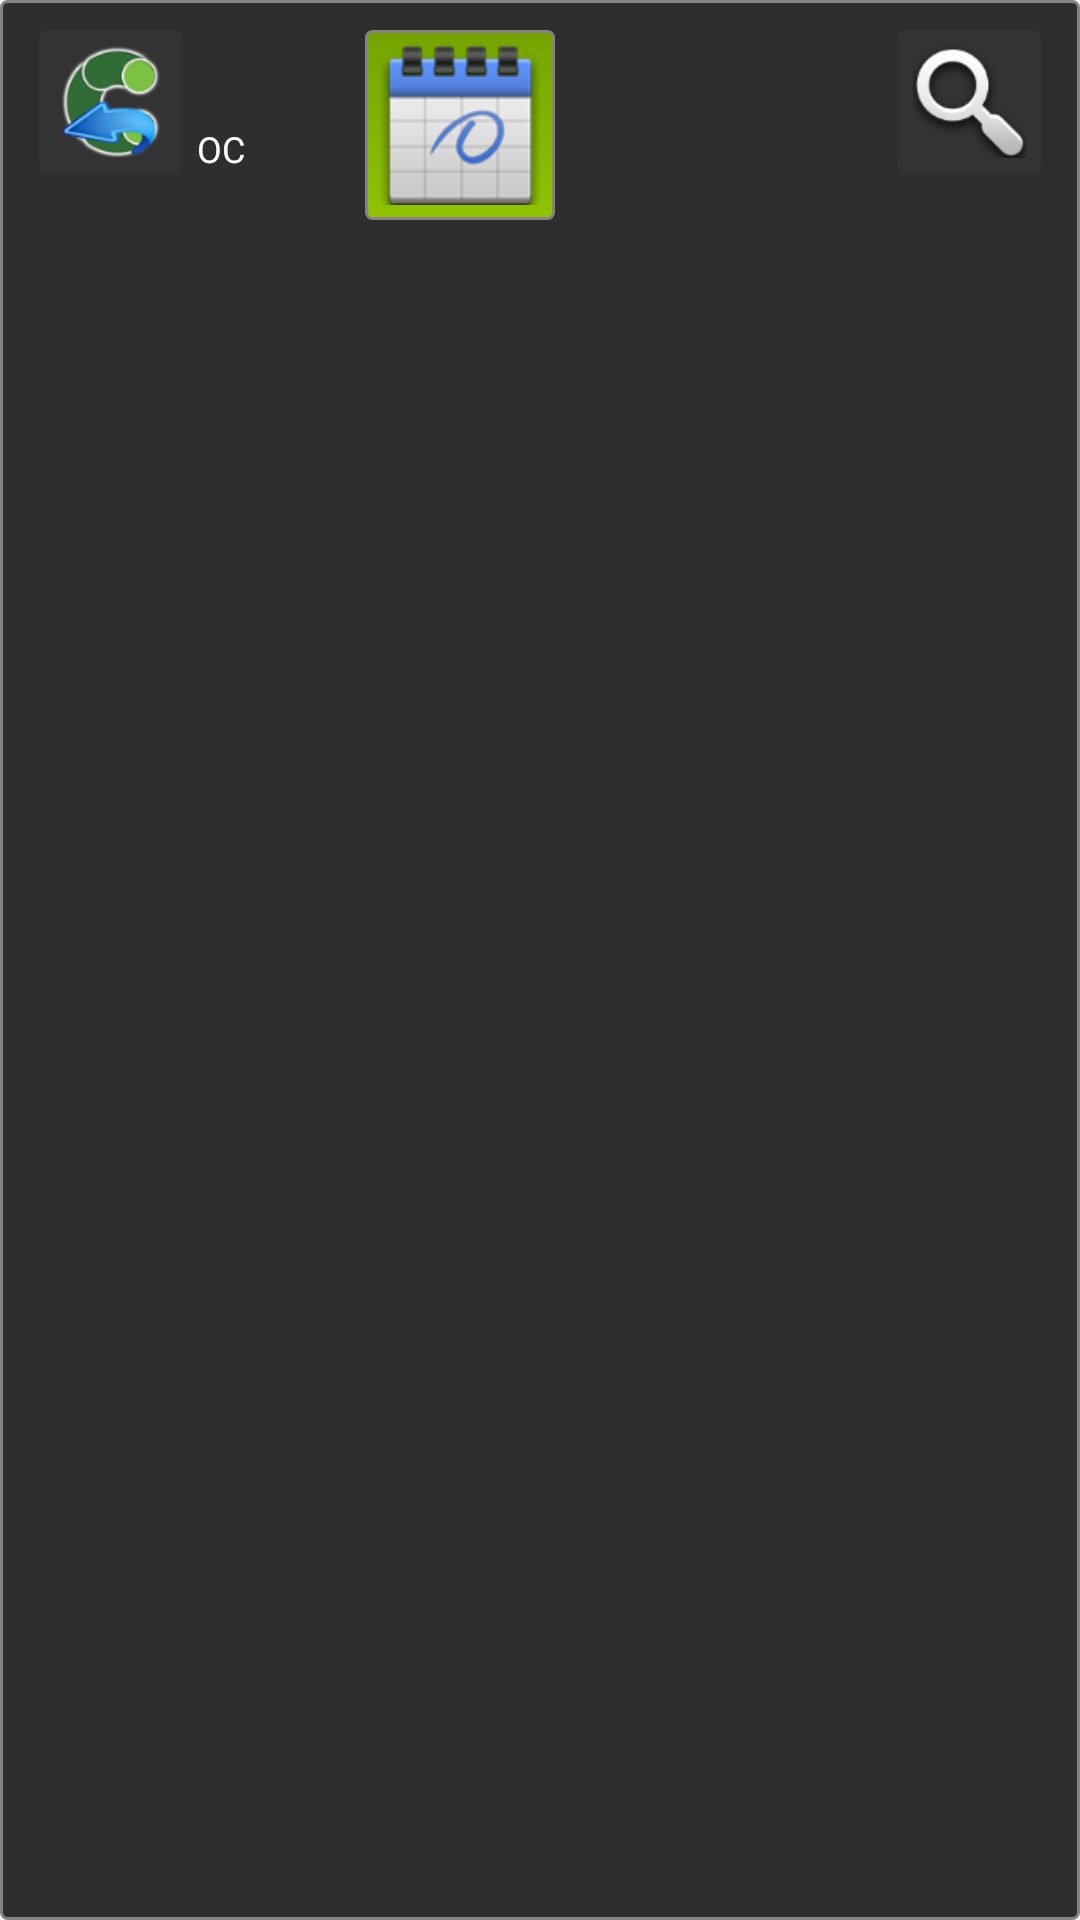

Icons on this 1080px×1920px Android screen, each with the point to tap as [x,y]:
cale: [460,125]
searchsombra: [969,103]
